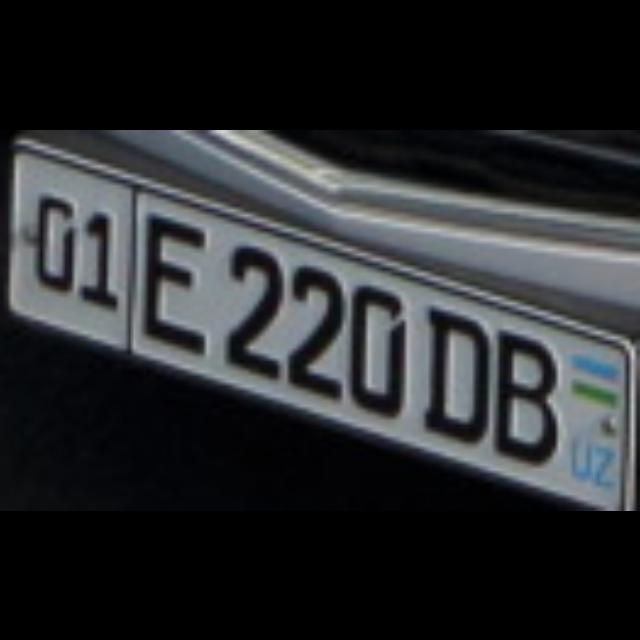0: (342, 280, 401, 412), (29, 182, 63, 286)
1: (73, 202, 107, 306)
2: (215, 242, 293, 358), (274, 261, 332, 393)
B: (484, 324, 562, 462)
D: (415, 299, 479, 436)
E: (137, 206, 201, 354)
